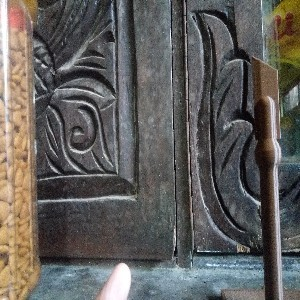cutter: (250, 55, 285, 300)
